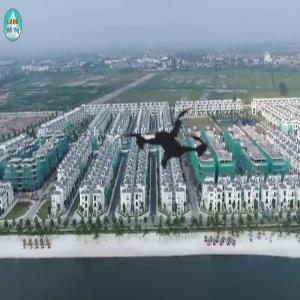drone: (95, 66, 242, 213)
